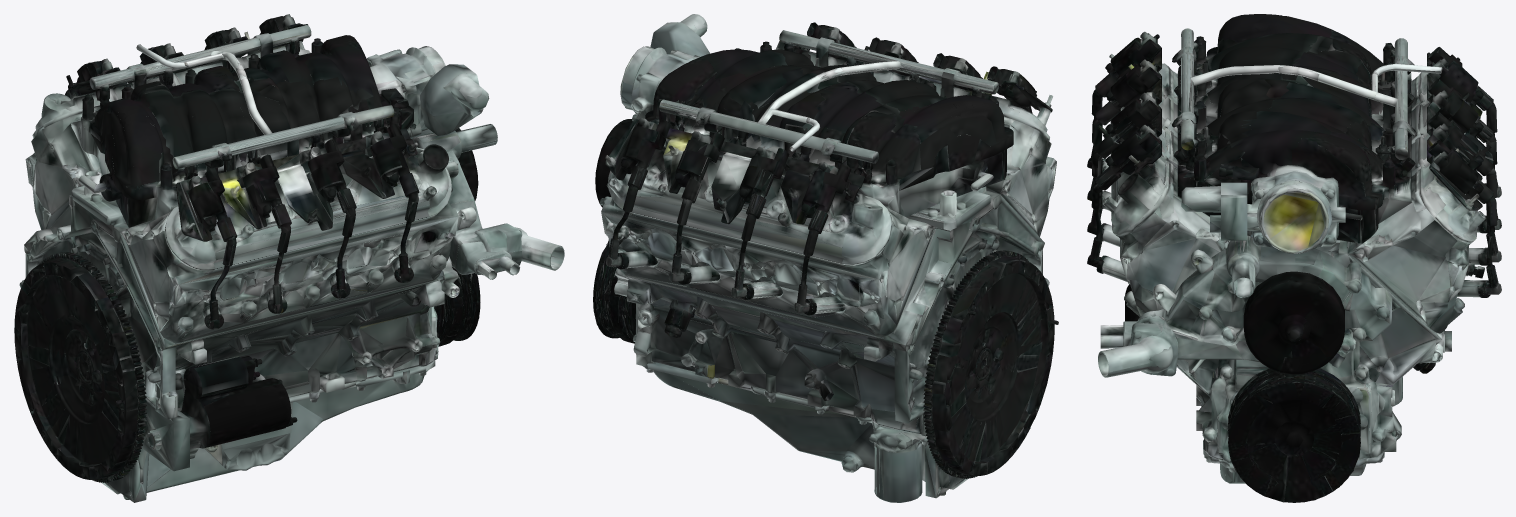
The model's file is eng-v8-50-ohv.glb.
3 renders of one model, left to right at view 1: azimuth 30°, elevation 25°; view 2: azimuth 150°, elevation 25°; view 3: azimuth 270°, elevation 25°, orthographic. The views are drawn at different scales.
Parts seen in each view (by area): view 1: Object_6, Object_8, Object_7; view 2: Object_6, Object_8, Object_7; view 3: Object_6, Object_8, Object_7.
Part boxes in pixels (x1,y1,x2,y2): Object_6: [24, 35, 489, 502]; Object_8: [14, 38, 564, 482]; Object_7: [24, 14, 480, 419]; Object_6: [593, 14, 1056, 502]; Object_8: [595, 14, 1058, 478]; Object_7: [596, 30, 1050, 435]; Object_6: [1117, 14, 1485, 500]; Object_8: [1087, 15, 1501, 377]; Object_7: [1103, 38, 1494, 502].
Size of the model in its own units: 2 by 1.72 by 1.66.
Materials: 1 (1 with a texture image).
